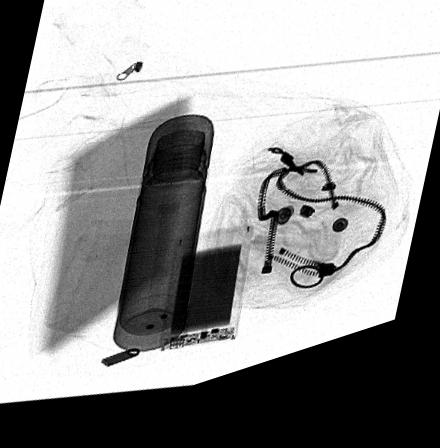Powerbank: (155, 239, 252, 364)
